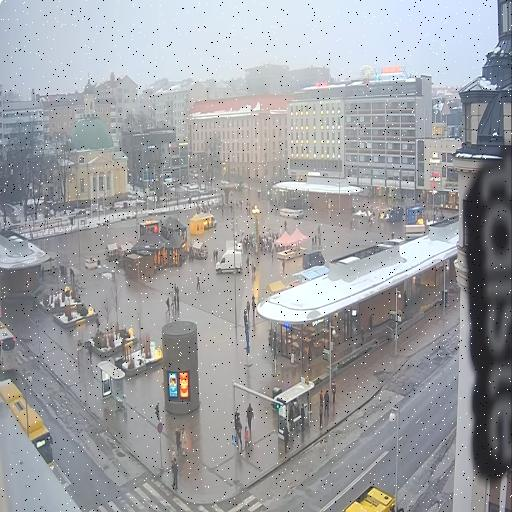bus: (0, 380, 53, 470), (343, 487, 396, 511), (0, 319, 17, 371)
